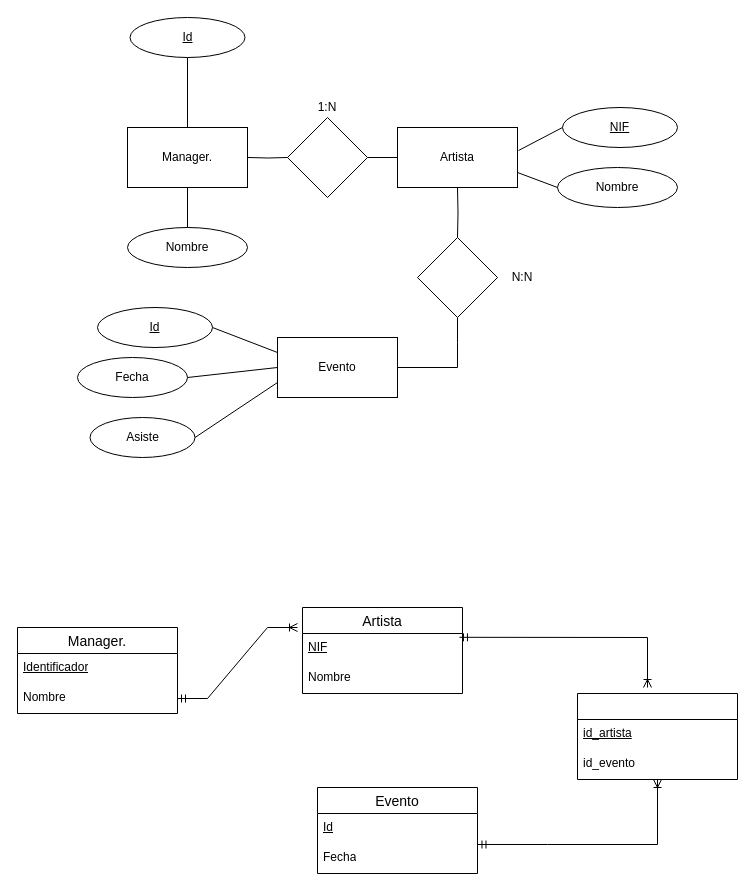
Image size: 755x894. Some labels were removed from this diagram. The box of each missing label's shape, as (x1, y1, x2, y2) in pixels:
Participa: (416, 236, 498, 318)
Participa_Evento: (576, 692, 738, 780)
Representa: (286, 116, 368, 198)
